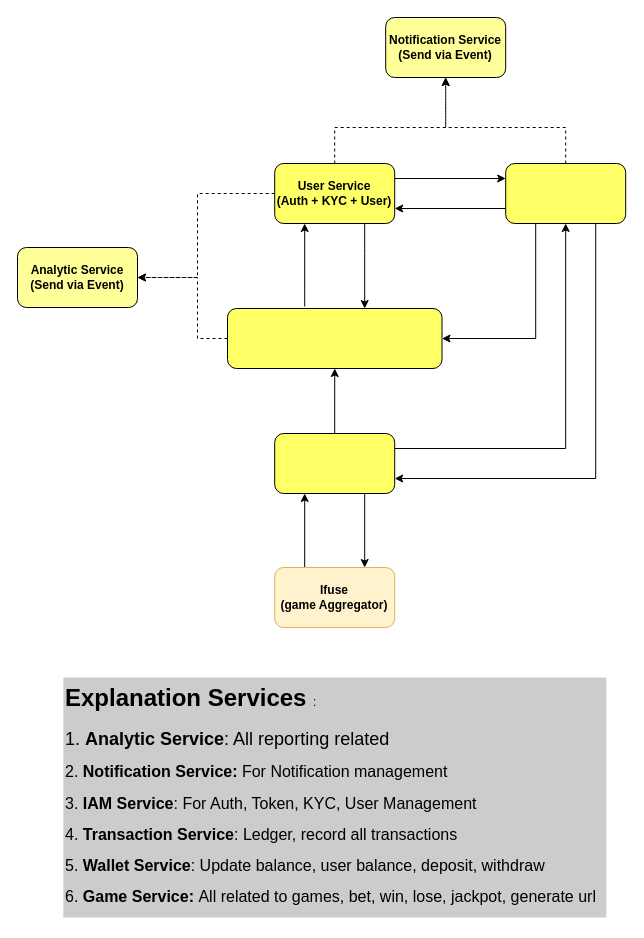
Some shapes in this 644 by 938 pixel diagram are drawn without their labels. The centre of each missing label's shape, as x and y in pixels:
"Game Service (Play game, generate URL)" belongs at [334,463].
"Transaction Service (All Clean Transactions Record)" belongs at [334,338].
"Wallet Service (Deposit, Withdraw, Balance)" belongs at [565,193].
